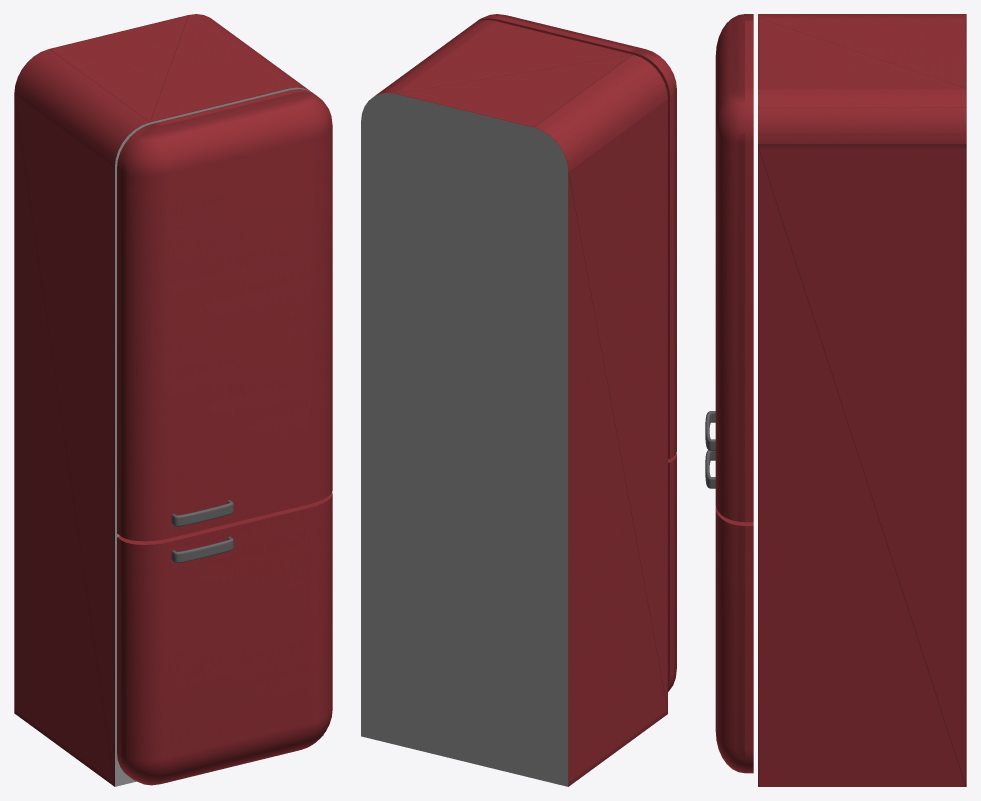
The model's file is frigo.obj.
3 views of the same model, side by side, from view 1: azimuth 30°, elevation 25°; view 2: azimuth 150°, elevation 25°; view 3: azimuth 270°, elevation 25° (orthographic). The views are drawn at different scales.
Parts seen in each view (by area): view 1: ChamferBox03_3, Rectangle12_4, Rectangle1218_5, Loft12_1, Loft13_2; view 2: Rectangle1218_5, Rectangle12_4, ChamferBox03_3; view 3: Rectangle12_4, ChamferBox03_3.
Boxes of the visible parts, x1,y1,x2,y2 form: ChamferBox03_3: [117, 89, 332, 785]; Rectangle12_4: [14, 14, 309, 786]; Rectangle1218_5: [115, 87, 323, 786]; Loft12_1: [171, 536, 233, 563]; Loft13_2: [171, 500, 233, 526]; Rectangle1218_5: [361, 93, 568, 786]; Rectangle12_4: [375, 20, 667, 786]; ChamferBox03_3: [475, 14, 676, 691]; Rectangle12_4: [758, 14, 966, 786]; ChamferBox03_3: [715, 14, 753, 773].
Bounding box in the file's own units: 60 × 180 × 62.6.
Materials: 3 (2 with a texture image).
